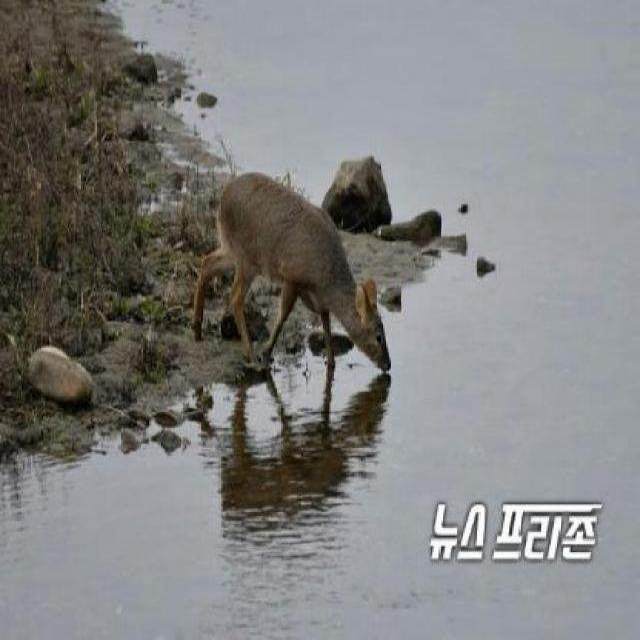deer: (176, 151, 404, 449)
